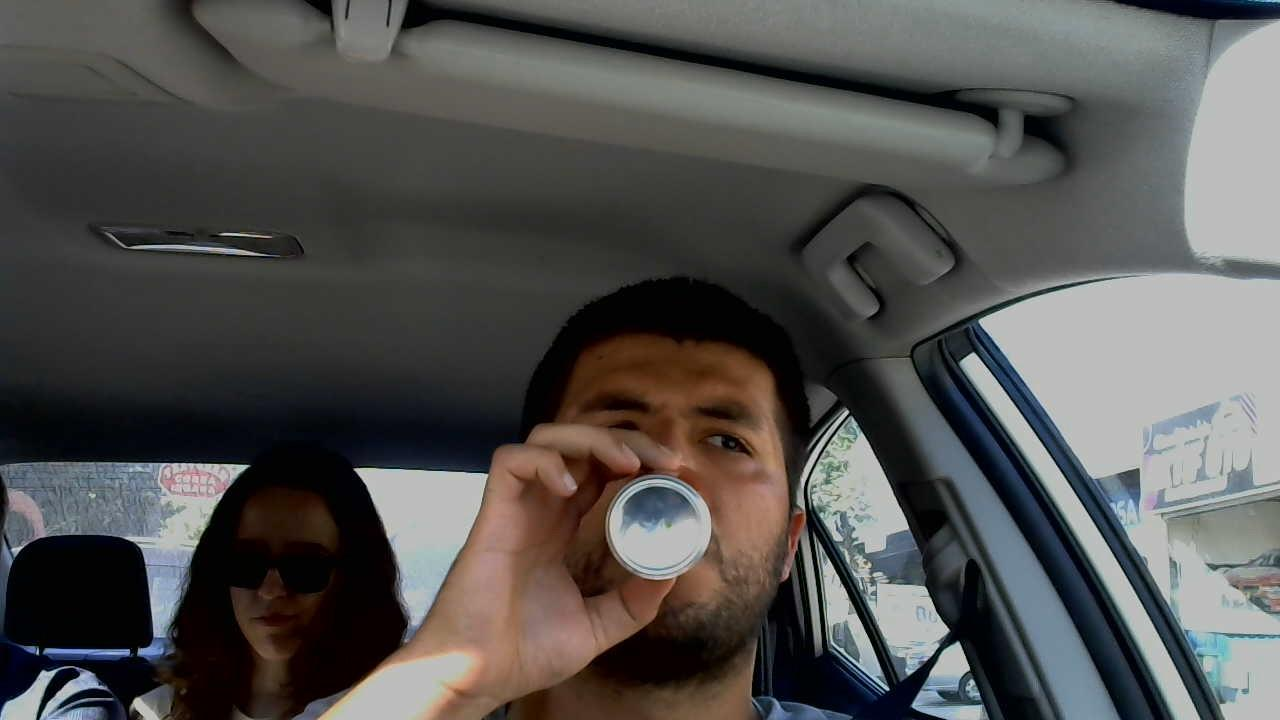Drinking: (539, 446, 716, 621)
